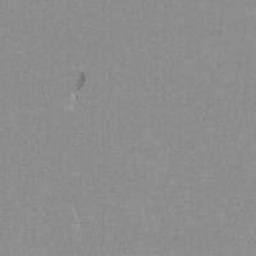Inclusion: (77, 72, 86, 90)
